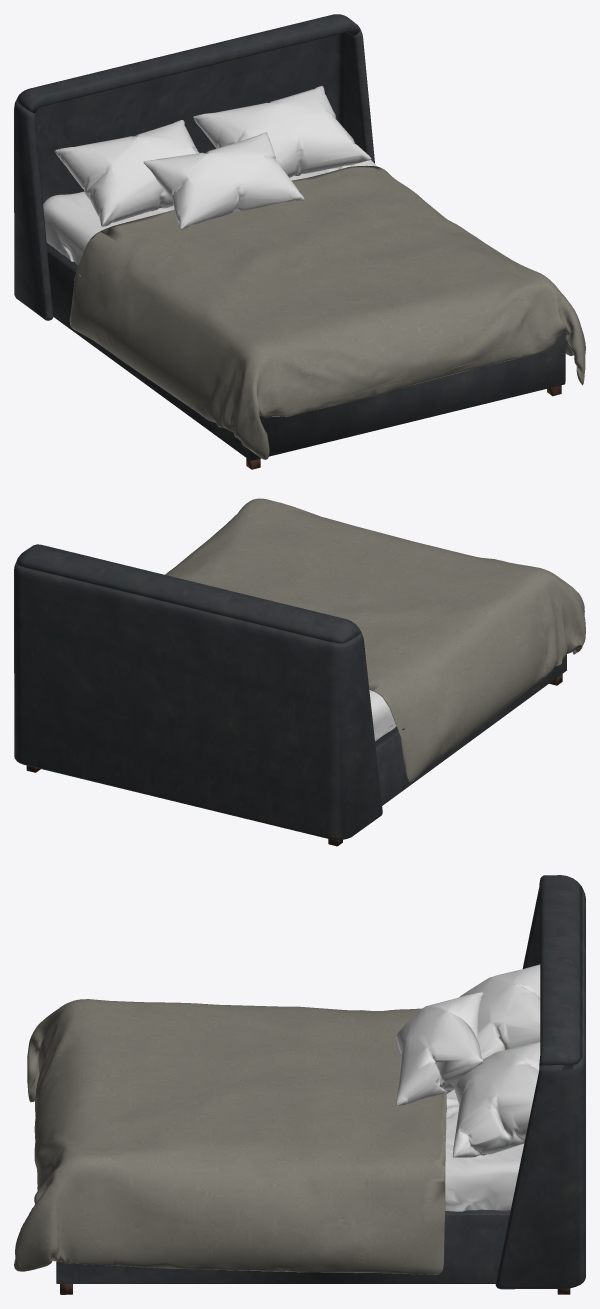
Rendered from bed_double.glb.
3 renders of one model, top to bottom at view 1: azimuth 30°, elevation 25°; view 2: azimuth 150°, elevation 25°; view 3: azimuth 270°, elevation 25°, orthographic. The views are drawn at different scales.
Visible parts, largest first — view 1: Plane.001; view 2: Plane.001; view 3: Plane.001.
Boxes of the visible parts, bbox=[...] form: Plane.001: bbox=[14, 14, 585, 469]; Plane.001: bbox=[14, 498, 585, 846]; Plane.001: bbox=[14, 875, 585, 1294].
Bounding box in the file's own units: 1.6 × 0.9563 × 2.
1 material, 1 textured.
